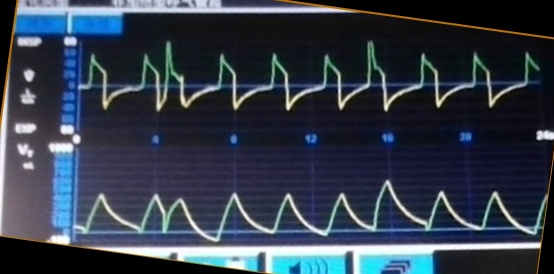Double_Triggering Flow: (91, 39, 529, 118)
Double_Triggering Volume: (77, 172, 531, 243)
